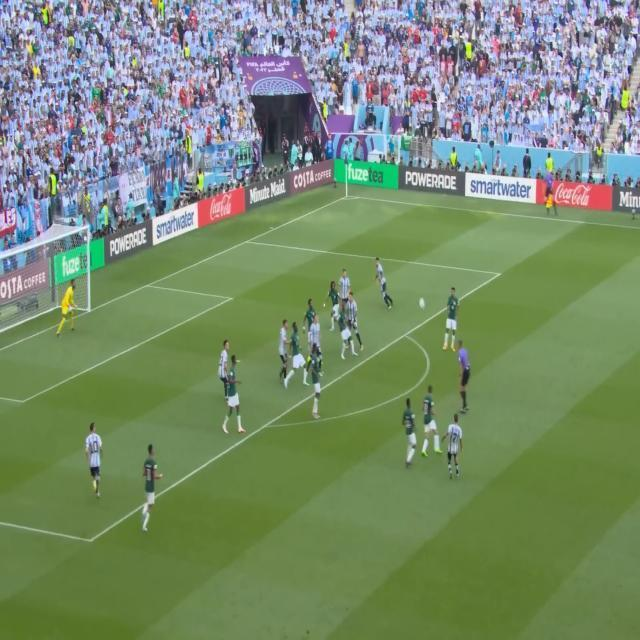player: (138, 440, 161, 542), (222, 348, 246, 445), (286, 311, 309, 400), (84, 419, 107, 500), (442, 281, 463, 360), (421, 381, 441, 461), (445, 405, 464, 485), (309, 338, 326, 425), (402, 388, 420, 470), (57, 273, 79, 340), (347, 287, 369, 353), (374, 252, 396, 315), (216, 331, 233, 404), (339, 300, 354, 363), (278, 315, 291, 385), (339, 261, 353, 310), (308, 317, 325, 353), (329, 282, 341, 333), (302, 294, 316, 328)
